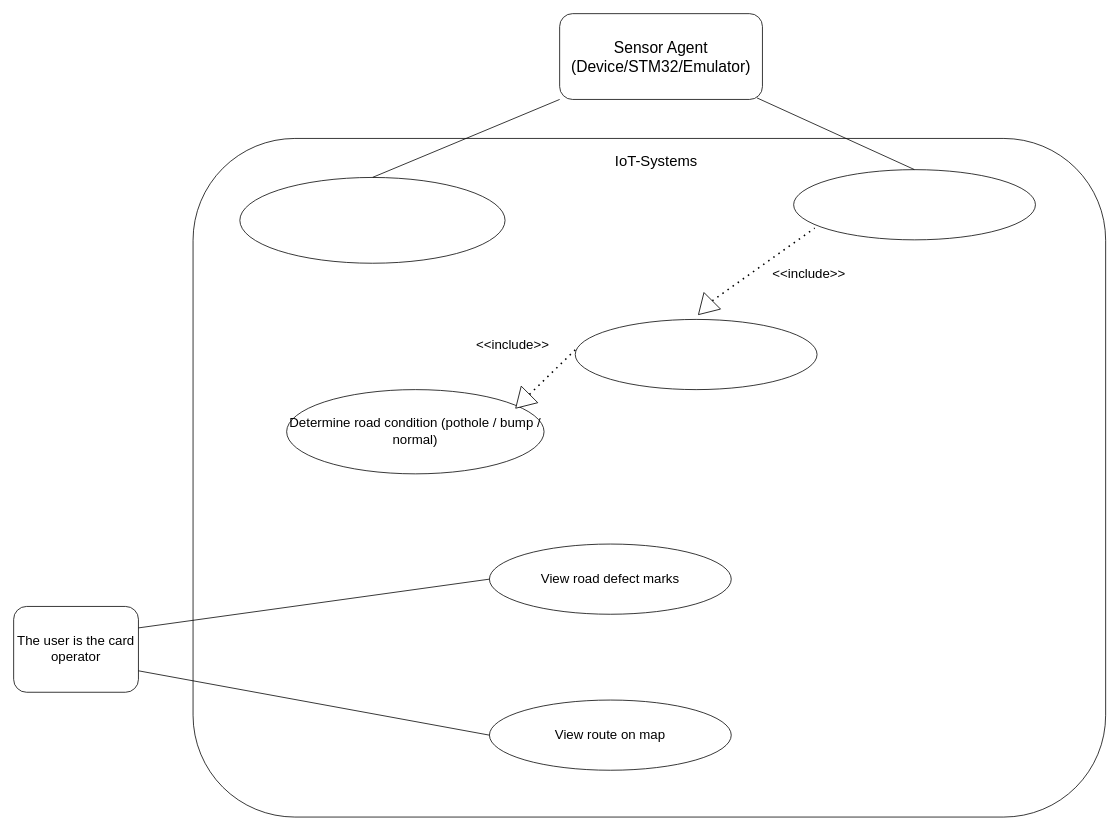
This 1119x831 diagram has some shape labels left out. Here are the shapes that lost their labels. From the top down, the centre of each, then its label:
At [372,220]: "Collect telemetry (accelerometer + GPS)".
At [914,204]: "Send telemetry".
At [695,354]: "Process telemetry".
